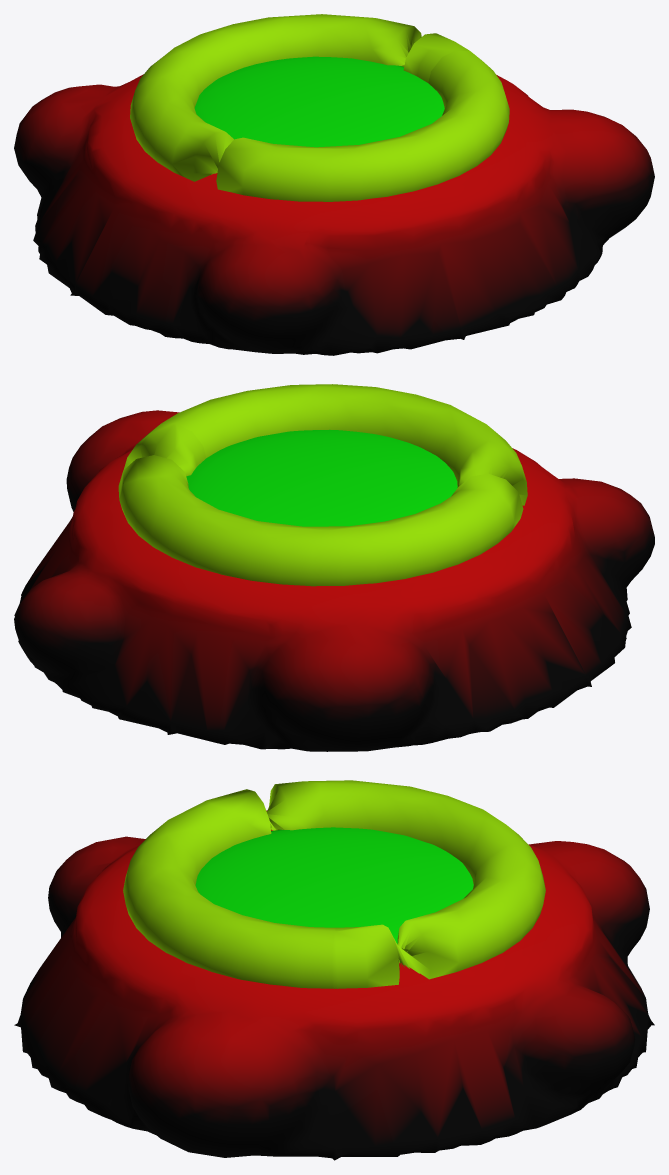
Rendered from prop-geyser.glb.
The picture shows the model from 3 angles, top to bottom: view 1: azimuth 30°, elevation 25°; view 2: azimuth 150°, elevation 25°; view 3: azimuth 270°, elevation 25°; orthographic projection. The views are drawn at different scales.
Parts seen in each view (by area): view 1: geyserBase, rim, pool; view 2: geyserBase, rim, pool; view 3: geyserBase, rim, pool.
Boxes of the visible parts, x1=… form: geyserBase: x1=14, y1=74, x2=654, y2=355; rim: x1=130, y1=14, x2=509, y2=201; pool: x1=194, y1=56, x2=444, y2=147; geyserBase: x1=14, y1=410, x2=654, y2=751; rim: x1=118, y1=384, x2=527, y2=586; pool: x1=186, y1=429, x2=457, y2=526; geyserBase: x1=14, y1=810, x2=654, y2=1160; rim: x1=123, y1=780, x2=545, y2=988; pool: x1=195, y1=827, x2=473, y2=943.
Size of the model in its own units: 3.66 by 1.08 by 3.49.
